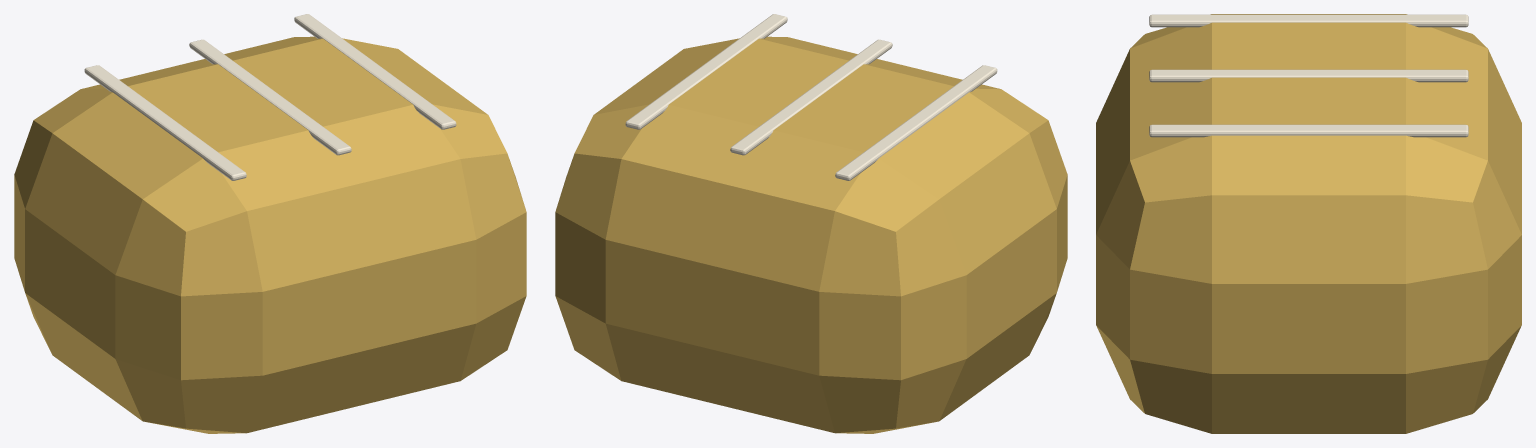
Rendered from accent_pillow.glb.
3 renders of one model, left to right at view 1: azimuth 30°, elevation 25°; view 2: azimuth 150°, elevation 25°; view 3: azimuth 270°, elevation 25°, orthographic. The views are drawn at different scales.
Parts seen in each view (by area): view 1: accent_pillow_Mesh; view 2: accent_pillow_Mesh; view 3: accent_pillow_Mesh.
Boxes of the visible parts, x1=… form: accent_pillow_Mesh: x1=14, y1=14, x2=526, y2=433; accent_pillow_Mesh: x1=555, y1=14, x2=1067, y2=433; accent_pillow_Mesh: x1=1096, y1=14, x2=1521, y2=433.
Size of the model in its own units: 0.42 by 0.281 by 0.36.
